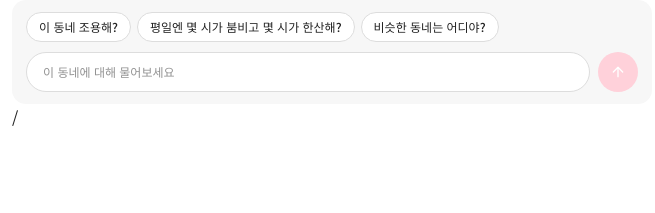
it: ChatThread › 429 → 잠시 후 문구, 다시 시도 없음
The image size is (655, 213).
Type "이 동네 조용해?" into the field named "이 동네에 물어보기" at [308, 72], box [43, 64, 573, 80]
Then press Enter
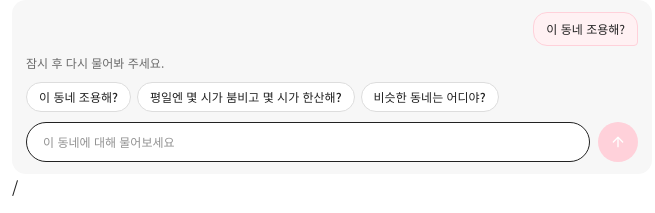
Now the text "잠시 후 다시 물어봐 주세요." is shown, box [26, 54, 164, 71]
